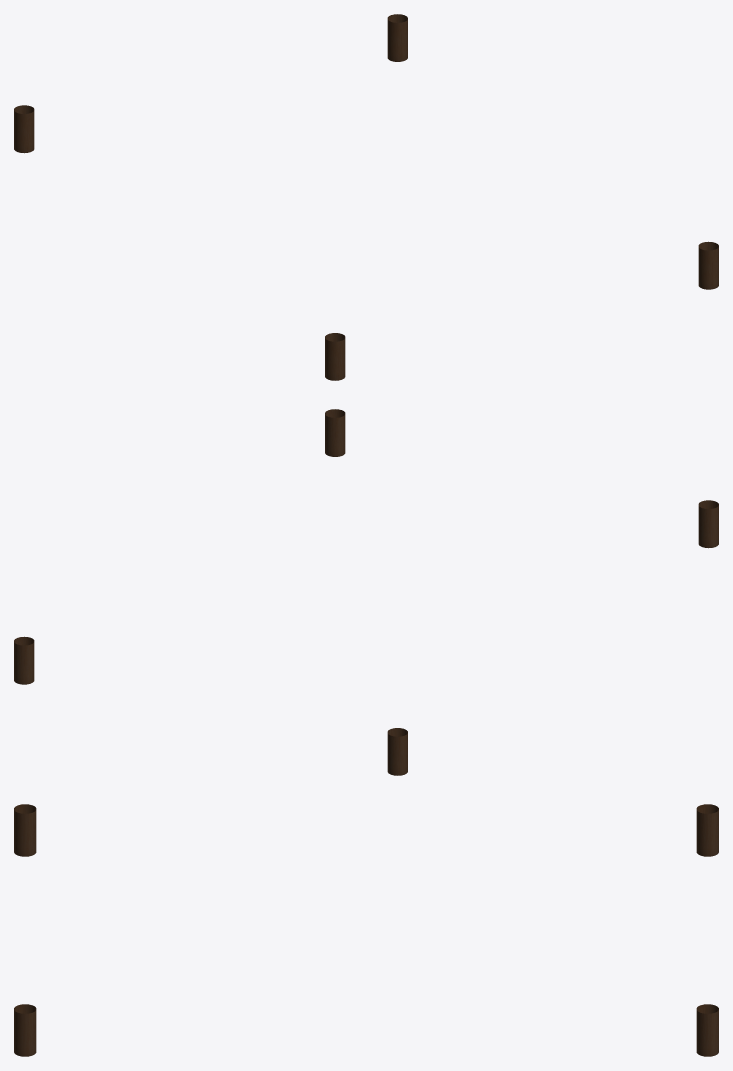
File: patas-cilindro.glb
The picture shows the model from 3 angles, top to bottom: view 1: azimuth 30°, elevation 25°; view 2: azimuth 150°, elevation 25°; view 3: azimuth 270°, elevation 25°; orthographic projection. The views are drawn at different scales.
Visible parts, largest first — view 1: patas-cilindro; view 2: patas-cilindro; view 3: patas-cilindro.
Boxes of the visible parts, x1,y1,x2,y2 form: patas-cilindro: [14, 14, 718, 380]; patas-cilindro: [14, 409, 718, 775]; patas-cilindro: [14, 804, 718, 1056].
Size of the model in its own units: 1.31 by 0.1251 by 1.85.
1 material, 1 textured.
